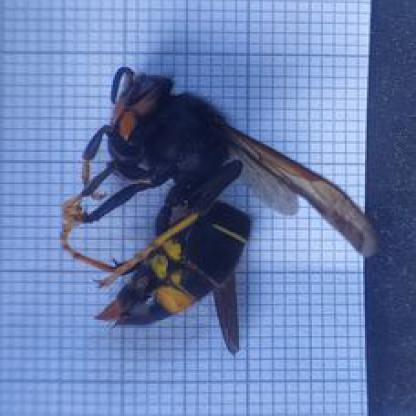Asian Hornet: (56, 43, 377, 354)
